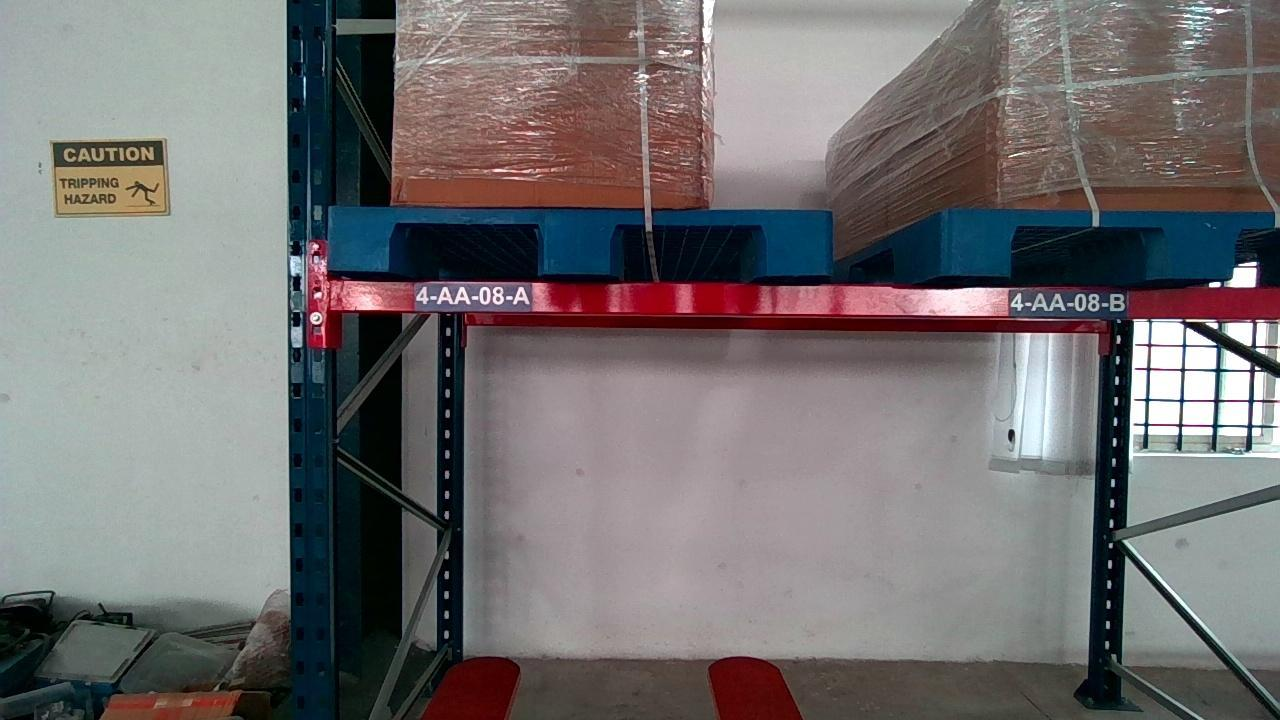h_rack: (322, 279, 1280, 319)
small_pallet: (325, 205, 832, 275), (948, 206, 1280, 285)
